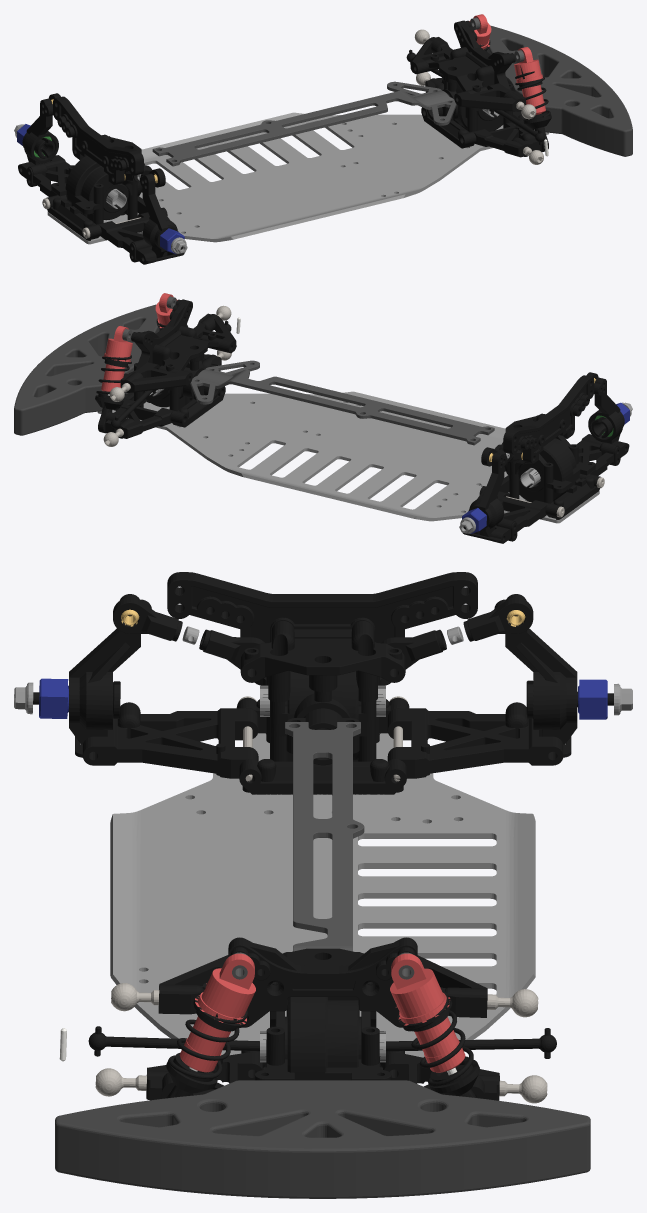
3 views of the same model, one above another, from view 1: azimuth 30°, elevation 25°; view 2: azimuth 150°, elevation 25°; view 3: azimuth 270°, elevation 25° (orthographic). The views are drawn at different scales.
Visible parts, largest first — view 1: part_5_node, part_0_node, part_3_node, part_4_node, part_7_node, part_6_node, part_1_node; view 2: part_5_node, part_0_node, part_3_node, part_4_node, part_7_node, part_6_node, part_1_node; view 3: part_0_node, part_5_node, part_3_node, part_4_node, part_7_node, part_6_node, part_1_node.
Boxes of the visible parts, x1=… form: part_5_node: x1=14, y1=109, x2=549, y2=253; part_0_node: x1=18, y1=20, x2=551, y2=264; part_3_node: x1=487, y1=25, x2=632, y2=156; part_4_node: x1=152, y1=17, x2=524, y2=166; part_7_node: x1=469, y1=14, x2=545, y2=114; part_6_node: x1=42, y1=29, x2=543, y2=238; part_1_node: x1=17, y1=124, x2=184, y2=254; part_5_node: x1=97, y1=389, x2=632, y2=533; part_0_node: x1=95, y1=299, x2=629, y2=543; part_3_node: x1=14, y1=304, x2=159, y2=435; part_4_node: x1=122, y1=295, x2=494, y2=445; part_7_node: x1=101, y1=293, x2=177, y2=391; part_6_node: x1=103, y1=305, x2=604, y2=517; part_1_node: x1=462, y1=402, x2=629, y2=533; part_0_node: x1=33, y1=572, x2=613, y2=1100; part_5_node: x1=14, y1=626, x2=632, y2=1062; part_3_node: x1=55, y1=1080, x2=590, y2=1198; part_4_node: x1=232, y1=722, x2=414, y2=979; part_7_node: x1=179, y1=953, x2=465, y2=1072; part_6_node: x1=95, y1=696, x2=547, y2=1103; part_1_node: x1=39, y1=678, x2=607, y2=719.
Size of the model in its own units: 363 by 196 by 64.04.
